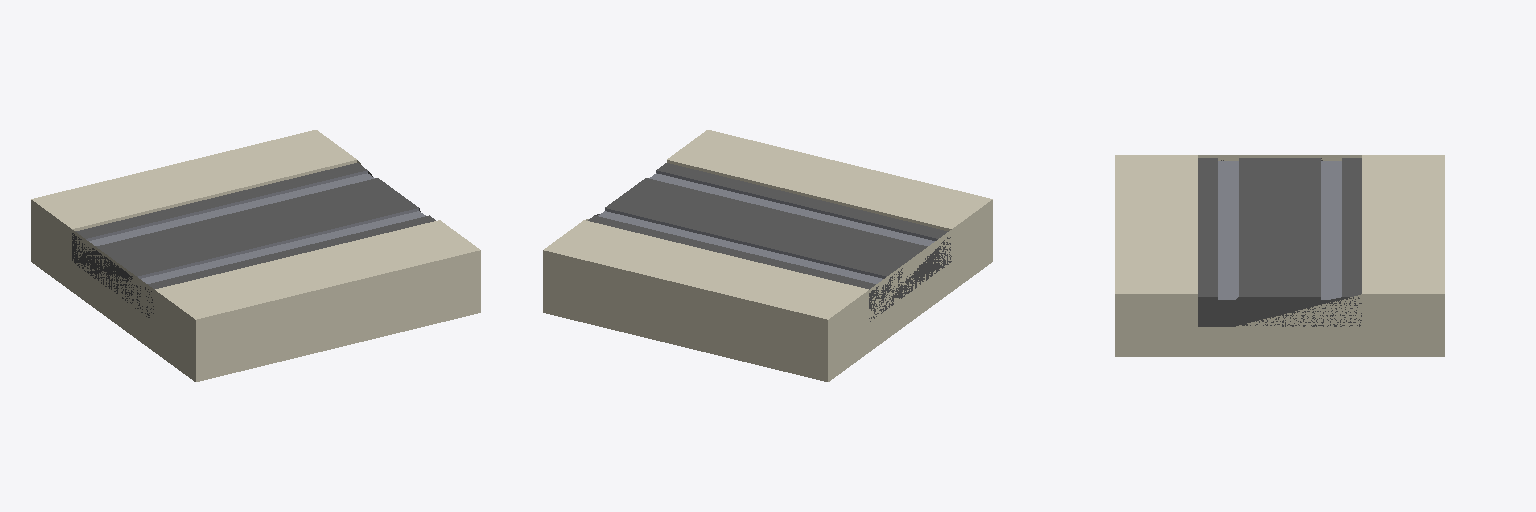
Rendered from roadTile_098.obj.
3 views of the same model, side by side, from view 1: azimuth 30°, elevation 25°; view 2: azimuth 150°, elevation 25°; view 3: azimuth 270°, elevation 25° (orthographic).
Parts seen in each view (by area): view 1: Mesh1 Group1 Model; view 2: Mesh1 Group1 Model; view 3: Mesh1 Group1 Model.
Part boxes in pixels (left/top/right/bottom): Mesh1 Group1 Model: left=31, top=130, right=480, bottom=381; Mesh1 Group1 Model: left=543, top=130, right=992, bottom=381; Mesh1 Group1 Model: left=1115, top=155, right=1444, bottom=356.
Size of the model in its own units: 3 by 0.63 by 3.